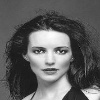faced: (29, 44, 69, 75)
